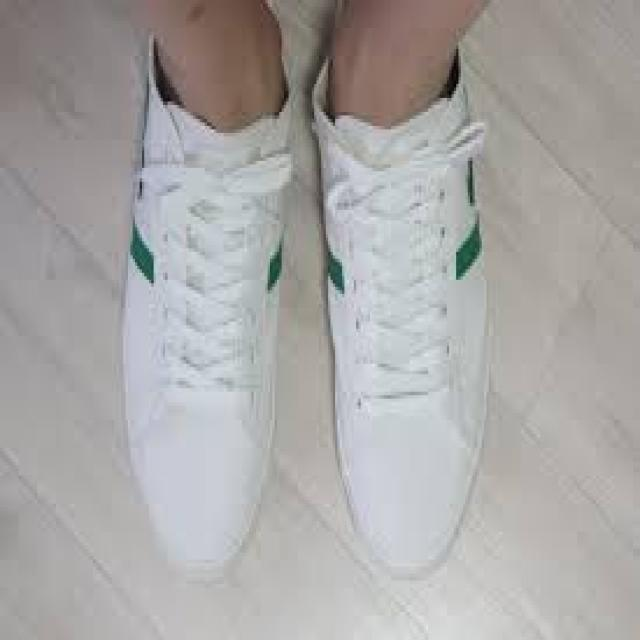shoe: (312, 45, 491, 584), (123, 38, 298, 588)
